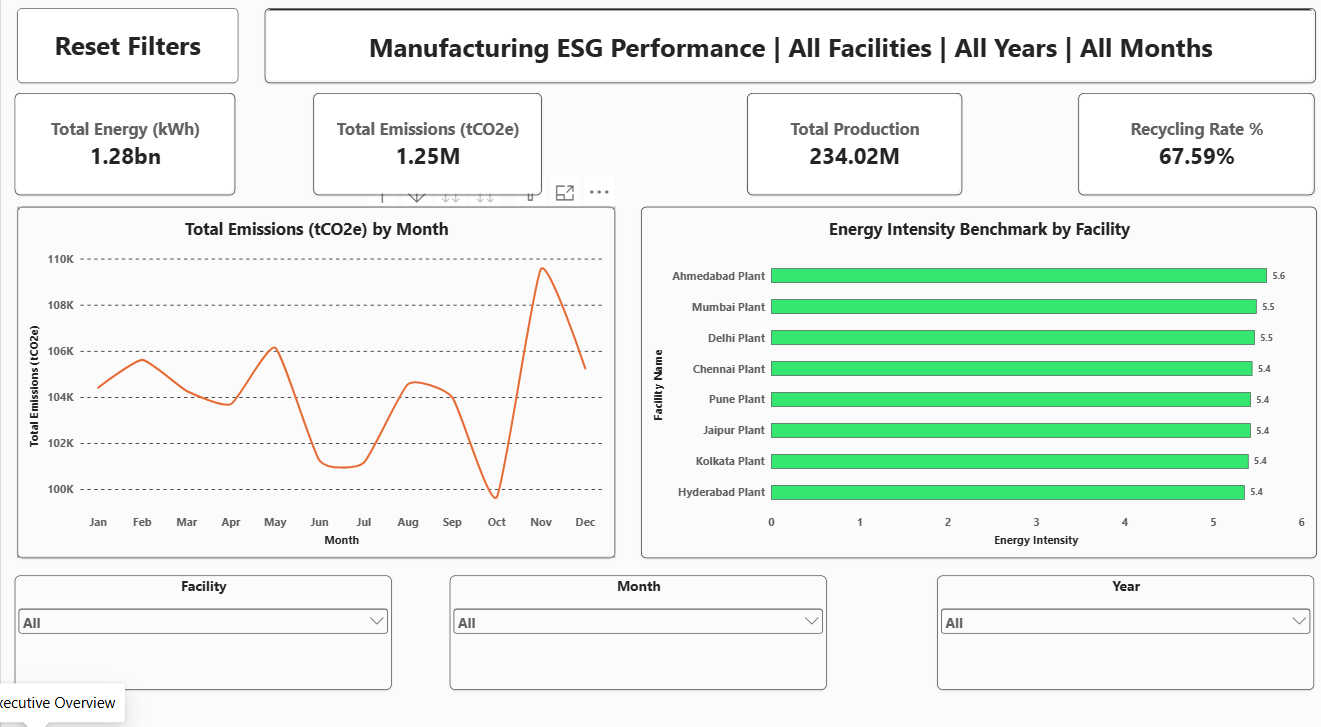

The page's visual inventory and layout, read from the dashboard file:
{"tool":"powerbi","page":{"name":"ESG Executive Overview","canvas":[1920,1080],"ordinal":0},"visuals":[{"type":"cardVisual","fields":{"Data":["Measure.Total Energy (kWh)"]},"box":[19.8,145.7,319.6,147.8],"z":0,"group":"g1"},{"type":"lineChart","fields":{"Y":["Measure.Total Emissions (tCO2e)"],"Category":["DimDate.Year Hierarchy.Year","DimDate.Year Hierarchy.Month"]},"box":[23.9,308.7,865.2,508.7],"z":0},{"type":"slicer","title":"Facility","fields":{"Values":["DimFacility.facility_name"]},"box":[19.8,843.5,545.7,165.2],"z":0,"group":"g2"},{"type":"cardVisual","fields":{"Data":["Measure.Total Emissions (tCO2e)"]},"box":[452.4,145.7,330.4,147.8],"z":1000,"group":"g1"},{"type":"clusteredBarChart","title":"Energy Intensity Benchmark by Facility","fields":{"Category":["DimFacility.facility_name"],"Y":["Measure.Energy Intensity"]},"box":[926.1,308.7,978.3,508.7],"z":1000},{"type":"slicer","title":"Month","fields":{"Values":["DimDate.Month"]},"box":[650.2,843.5,545.7,165.2],"z":1000,"group":"g2"},{"type":"cardVisual","fields":{"Data":["Measure.ESG Overview Dynamic Title"]},"box":[382.6,21.7,1521.8,108.7],"z":2000},{"type":"cardVisual","fields":{"Data":["Measure.Total Production"]},"box":[1080.7,145.7,310.9,147.8],"z":2000,"group":"g1"},{"type":"slicer","title":"Year","fields":{"Values":["DimDate.Year"]},"box":[1354.6,843.5,545.7,165.2],"z":2000,"group":"g2"},{"type":"actionButton","box":[23.5,21.7,320.3,108.6],"z":3000},{"type":"cardVisual","fields":{"Data":["Measure.Recycling Rate %"]},"box":[1559,145.7,341.3,147.8],"z":3000,"group":"g1"},{"type":"group","id":"g1","title":"Group 1","box":[19.8,145.7,1880.5,147.8],"z":4000},{"type":"group","id":"g2","title":"Group 2","box":[19.8,843.5,1880.5,165.2],"z":5000}]}

Visuals, with their boxes on the page's 1920x1080 design canvas (x1, y1, x2, y2). These are canvas units, not pixel positions in the 1321x727 screenshot, which may show the page scaled, cropped or inside an application window:
cardVisual - Measure.Total Energy (kWh): pyautogui.locateOnScreen(20, 146, 339, 294)
lineChart - Measure.Total Emissions (tCO2e) x DimDate.Year Hierarchy.Year: pyautogui.locateOnScreen(24, 309, 889, 817)
"Facility" slicer: pyautogui.locateOnScreen(20, 844, 566, 1009)
cardVisual - Measure.Total Emissions (tCO2e): pyautogui.locateOnScreen(452, 146, 783, 294)
"Energy Intensity Benchmark by Facility" clusteredBarChart: pyautogui.locateOnScreen(926, 309, 1904, 817)
"Month" slicer: pyautogui.locateOnScreen(650, 844, 1196, 1009)
cardVisual - Measure.ESG Overview Dynamic Title: pyautogui.locateOnScreen(383, 22, 1904, 130)
cardVisual - Measure.Total Production: pyautogui.locateOnScreen(1081, 146, 1392, 294)
"Year" slicer: pyautogui.locateOnScreen(1355, 844, 1900, 1009)
actionButton: pyautogui.locateOnScreen(24, 22, 344, 130)
cardVisual - Measure.Recycling Rate %: pyautogui.locateOnScreen(1559, 146, 1900, 294)
"Group 1" group: pyautogui.locateOnScreen(20, 146, 1900, 294)
"Group 2" group: pyautogui.locateOnScreen(20, 844, 1900, 1009)
